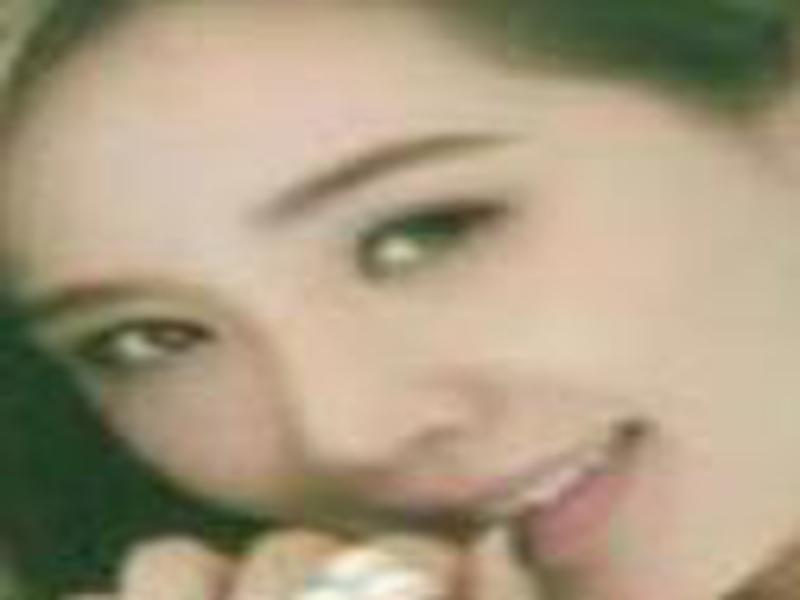without_mask: (16, 12, 782, 585)
